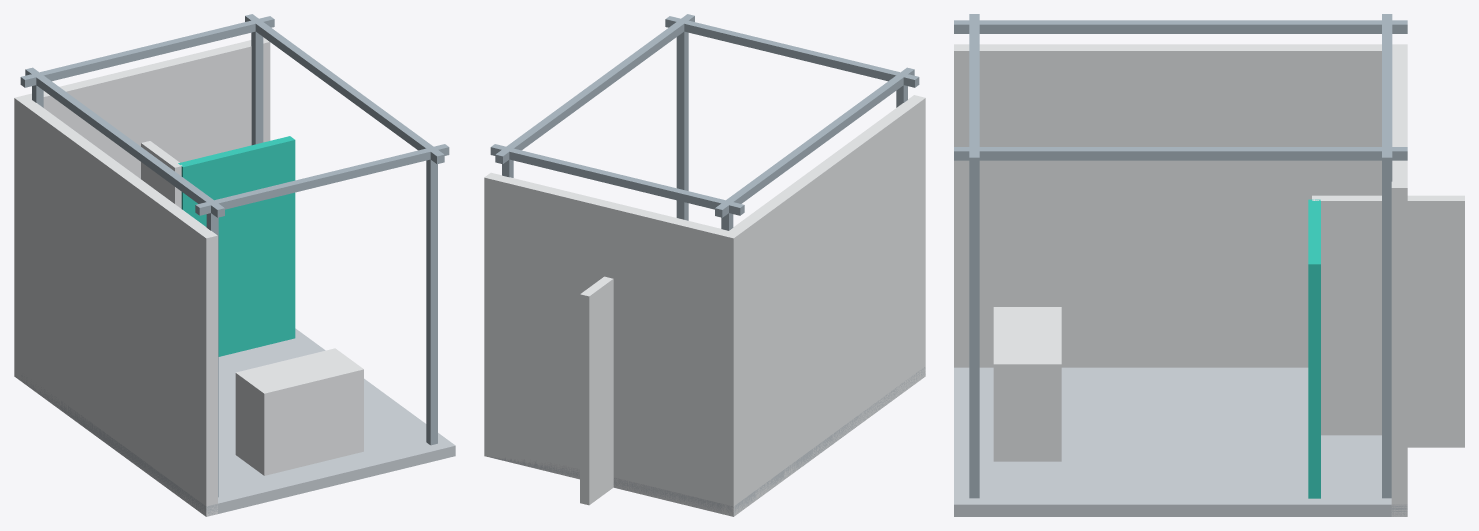
3 renders of one model, left to right at view 1: azimuth 30°, elevation 25°; view 2: azimuth 150°, elevation 25°; view 3: azimuth 270°, elevation 25°, orthographic. The views are drawn at different scales.
Parts seen in each view (by area): view 1: Exhibition Booth Concept; view 2: Exhibition Booth Concept; view 3: Exhibition Booth Concept.
Part boxes in pixels (x1=…): Exhibition Booth Concept: x1=14, y1=14, x2=455, y2=516; Exhibition Booth Concept: x1=484, y1=14, x2=925, y2=516; Exhibition Booth Concept: x1=954, y1=14, x2=1464, y2=516.
Bounding box in the file's own units: 3 × 3.49 × 4.51.
